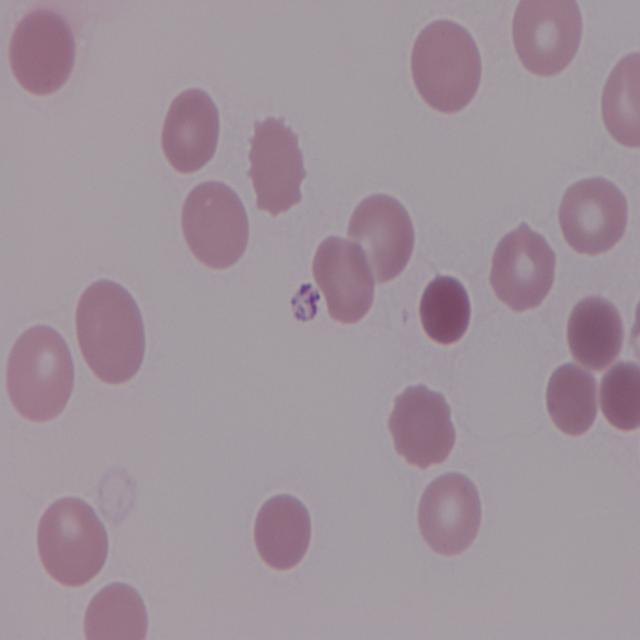RBC: (74, 274, 150, 384), (408, 11, 488, 114), (1, 322, 76, 428), (343, 184, 416, 285), (178, 178, 252, 275), (36, 494, 112, 588), (4, 5, 78, 101), (556, 170, 634, 260), (388, 382, 462, 472), (248, 113, 312, 217), (489, 219, 561, 311), (157, 81, 223, 178), (417, 467, 488, 557), (311, 230, 378, 324), (511, 0, 588, 79), (251, 489, 316, 572), (82, 579, 154, 640), (600, 49, 640, 156)
Spherocyte: (565, 291, 630, 372), (543, 361, 603, 439), (418, 271, 477, 344), (597, 358, 640, 431)
